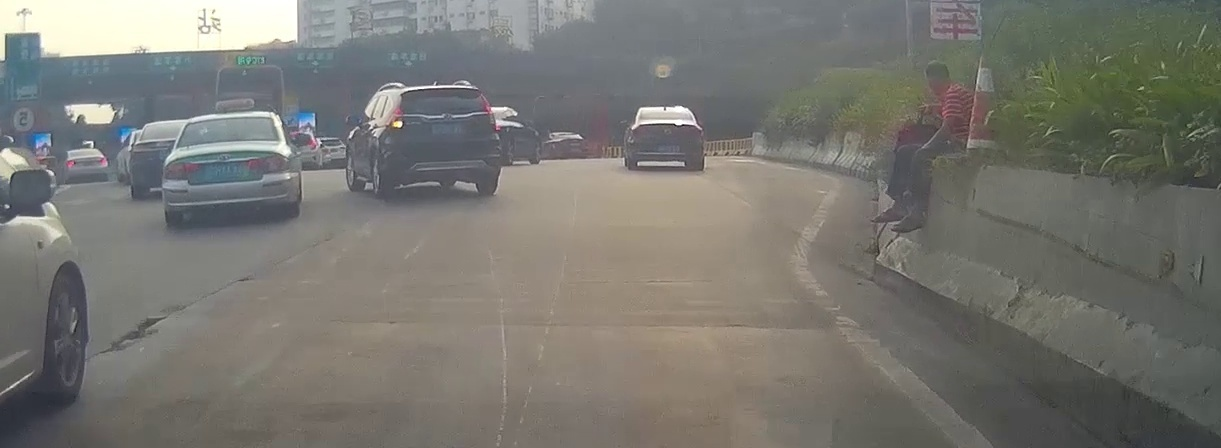L_light: (167, 161, 202, 176), (390, 96, 404, 128), (632, 125, 647, 135)
R_light: (248, 154, 288, 171), (481, 95, 495, 126), (687, 124, 702, 135)
T_light: (216, 118, 238, 123), (435, 88, 454, 93), (661, 110, 671, 113)
day-left: (379, 84, 499, 196)
day-no: (162, 110, 298, 224), (627, 106, 704, 171)
